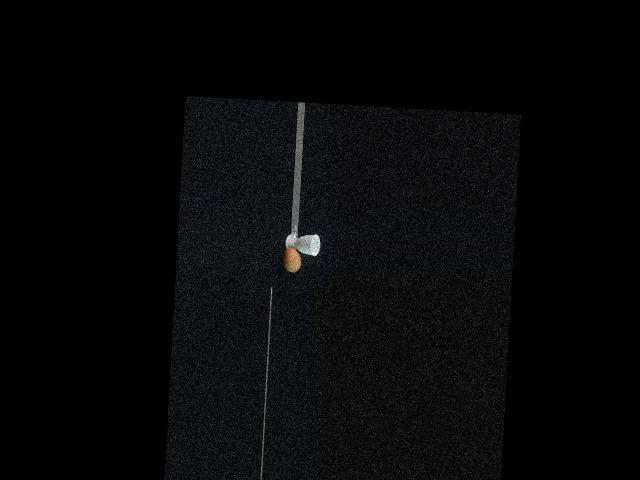egg: (283, 247, 301, 272)
